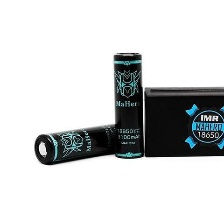battery: (32, 121, 129, 167), (109, 48, 146, 160)
book: (141, 84, 224, 159)
